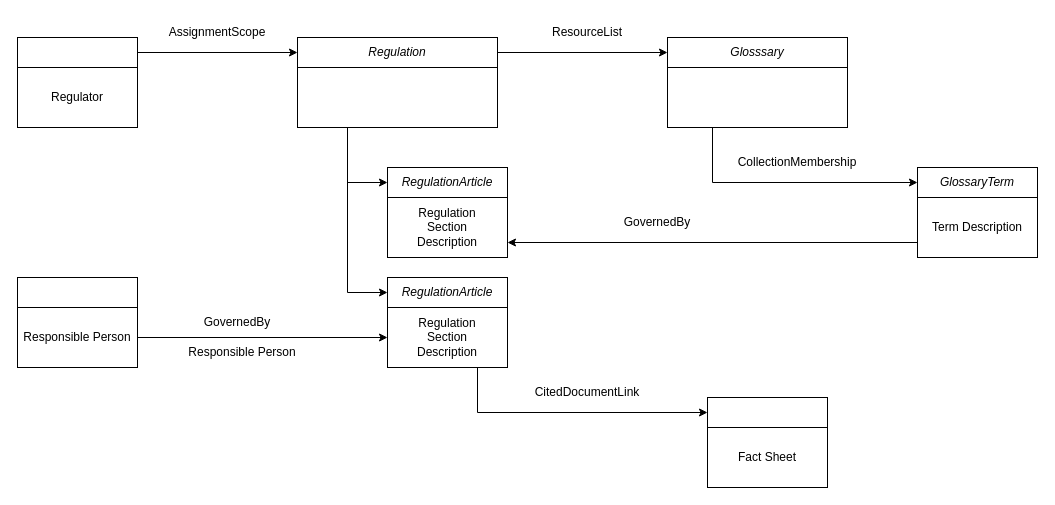
Image size: 1055x505. Some labels were removed from this diagram. The box of each missing label's shape, as (x1, y1, x2, y2) in pixels:
CitedDocument: (706, 396, 828, 428)
GovernanceRole: (16, 276, 138, 308)
Organization: (16, 36, 138, 68)
Regulation Description: (296, 66, 498, 128)
Regulation Glossary: (666, 66, 848, 128)
